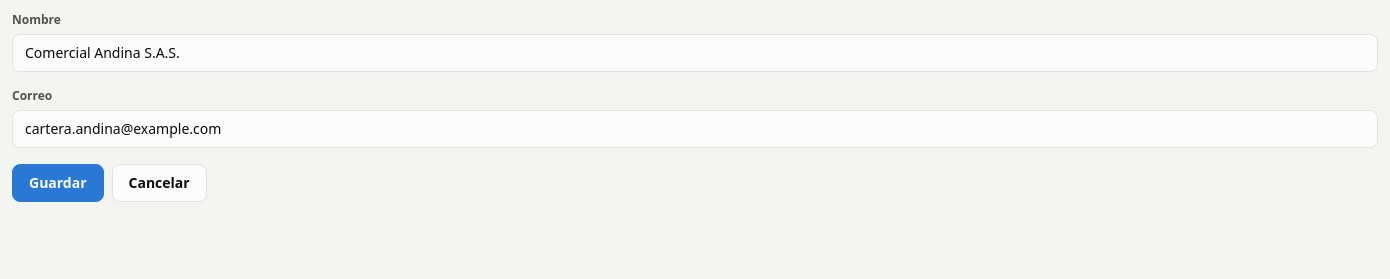
Test: FormularioCliente › muestra un error general cuando la API falla sin errores de campo
The image size is (1390, 279).
Click the button "Guardar". click: (58, 183)
box: [12,164,104,202]
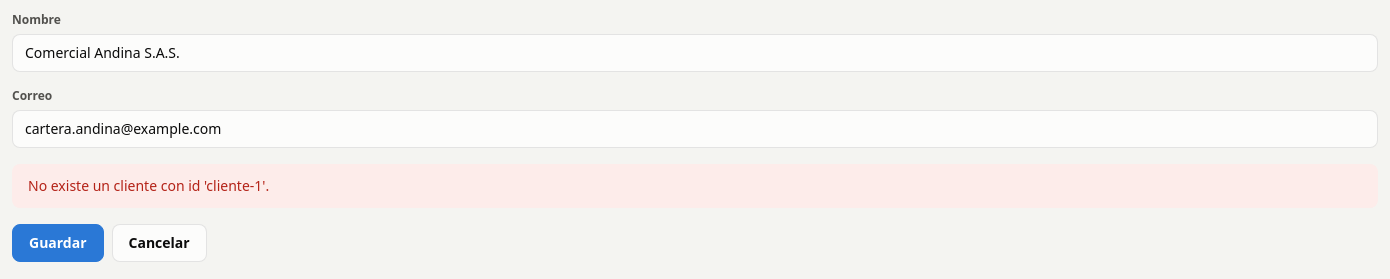
Expected: the button "Guardar" is enabled, [12,224,104,262]
Expected: the message reads "No existe un cliente con id 'cliente-1'.", [28,176,269,195]
